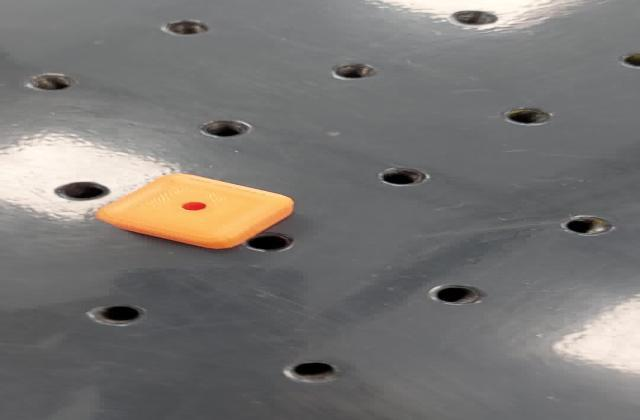cube: (92, 172, 304, 253)
